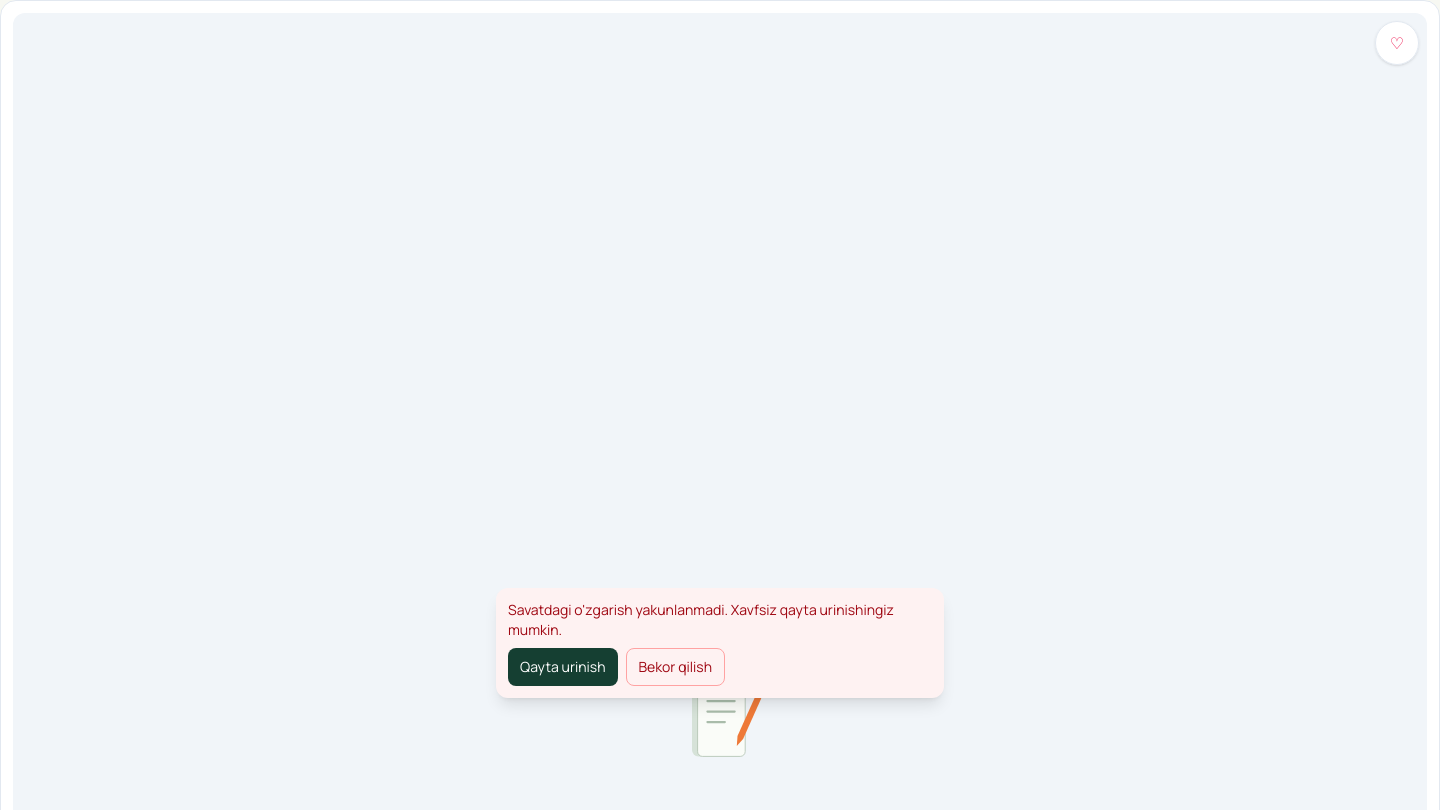
Test: cart action recovery › does not retry a pending add after its 24-hour expiry
The image size is (1440, 810).
expect the message is shown: met, box top-left (496, 588), bottom-right (944, 698)
Click the button "Qayta urinish" at (563, 667), box top-left (508, 648), bottom-right (618, 686)
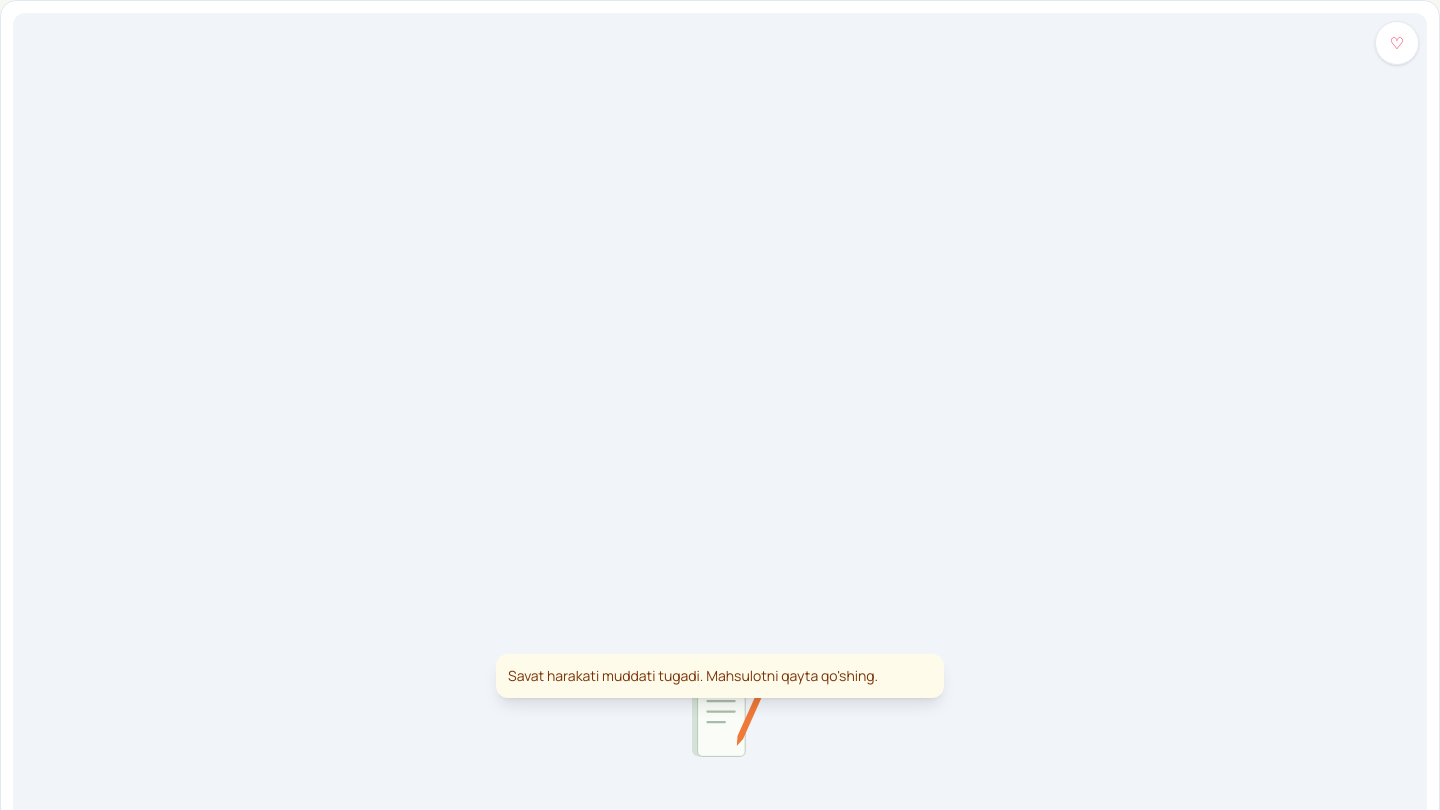
expect the message shows "Savat harakati muddati tugadi.": met, box top-left (508, 666), bottom-right (878, 685)
